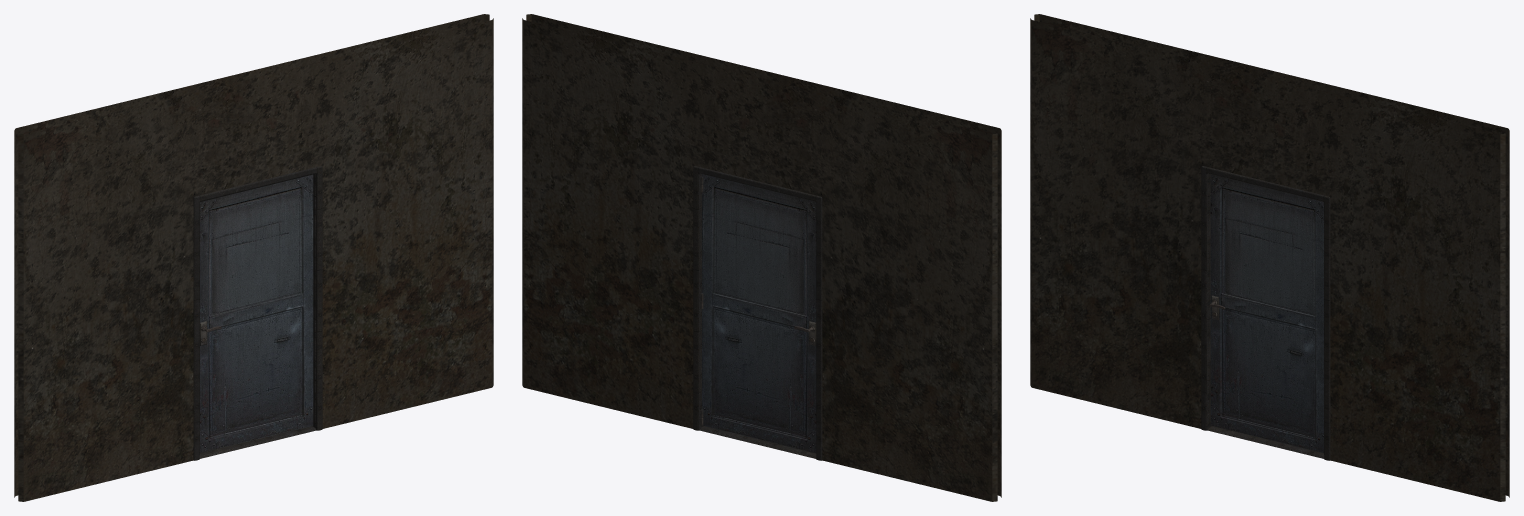
Rendered from doorway_2_plain.obj.
The picture shows the model from 3 angles, left to right: view 1: azimuth 30°, elevation 25°; view 2: azimuth 150°, elevation 25°; view 3: azimuth 330°, elevation 25°; orthographic projection.
Parts seen in each view (by area): view 1: doorway_2_plain, door_7; view 2: doorway_2_plain, door_7; view 3: doorway_2_plain, door_7.
Boxes of the visible parts, left/top/right/bottom form: doorway_2_plain: left=14, top=14, right=493, bottom=501; door_7: left=200, top=174, right=313, bottom=453; doorway_2_plain: left=522, top=14, right=1001, bottom=501; door_7: left=700, top=174, right=816, bottom=453; doorway_2_plain: left=1030, top=14, right=1509, bottom=501; door_7: left=1210, top=174, right=1323, bottom=453.
Bounding box in the file's own units: 4.06 × 3 × 0.194.
